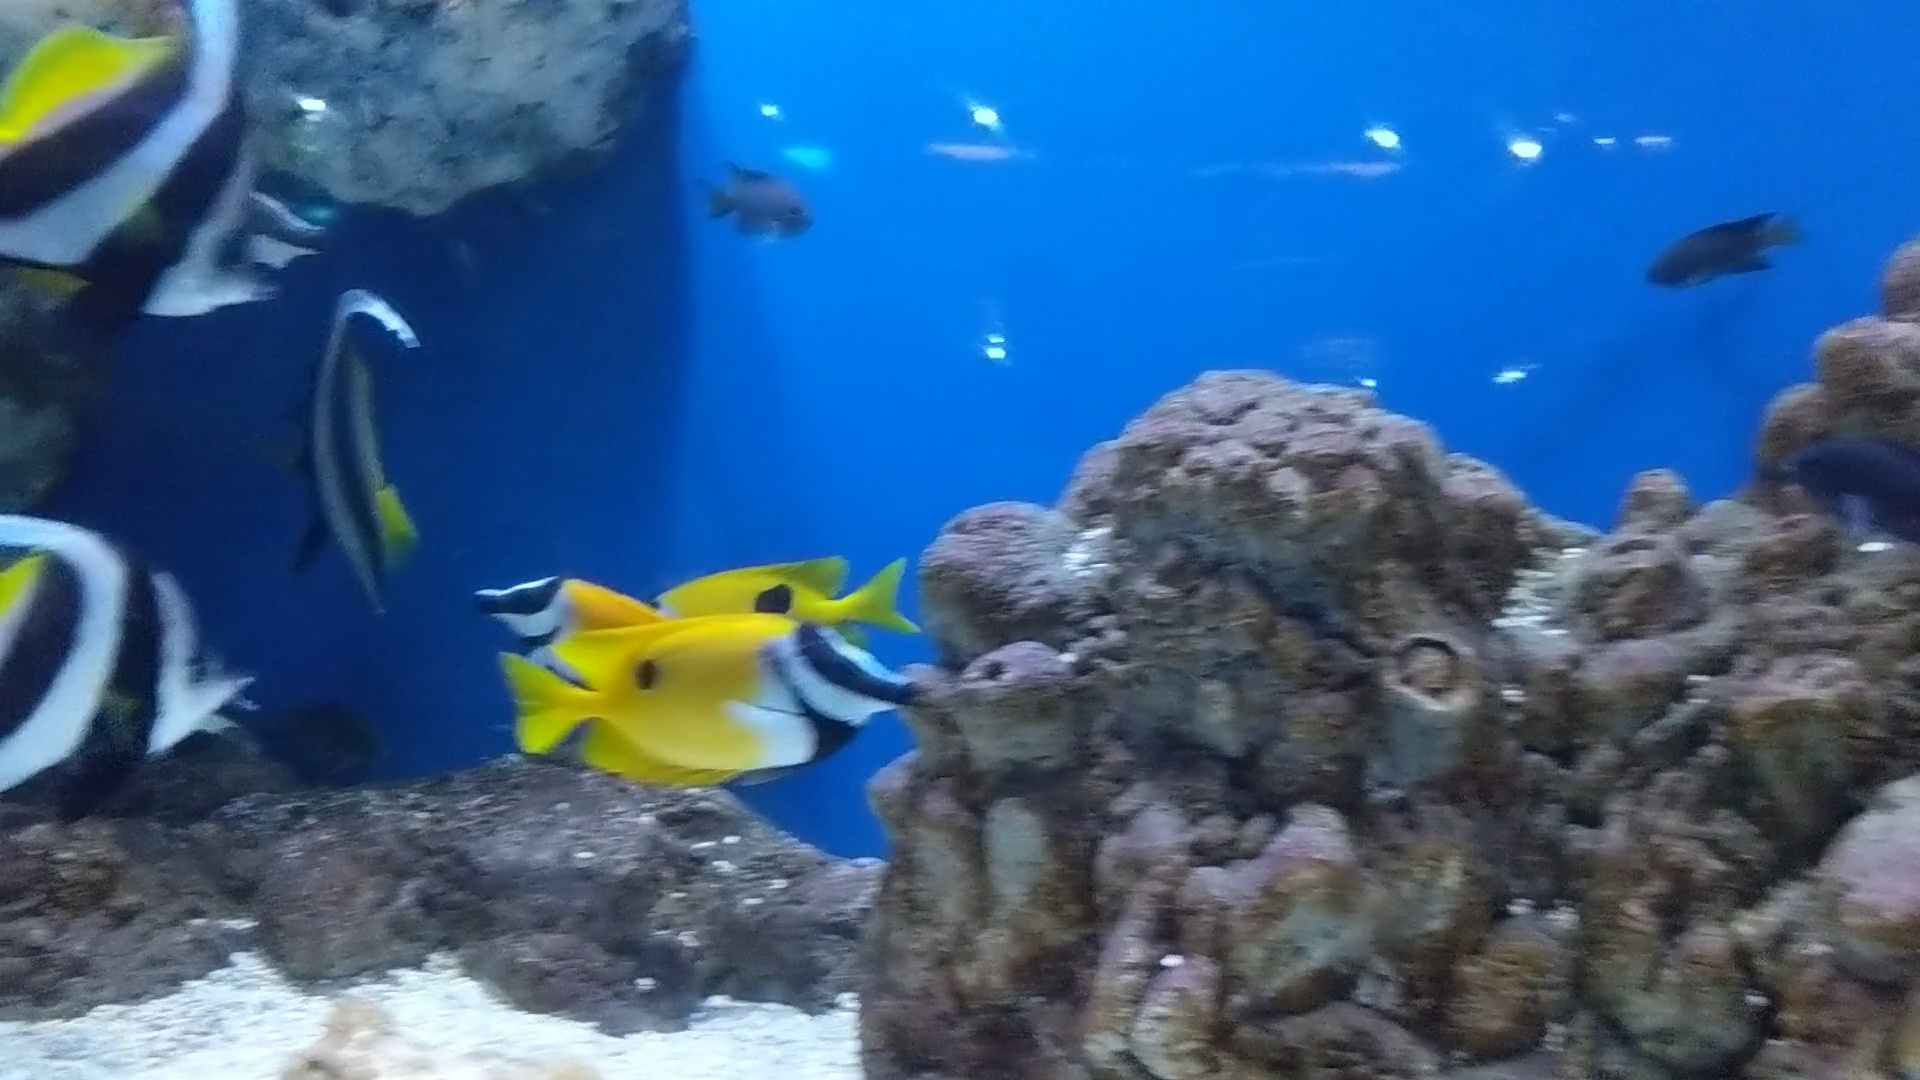moorfish: (3, 0, 274, 324), (11, 491, 258, 800), (26, 38, 274, 324), (282, 274, 448, 607)
rabbitfish: (491, 596, 909, 793), (491, 615, 909, 793), (669, 549, 909, 626), (471, 572, 665, 638)
